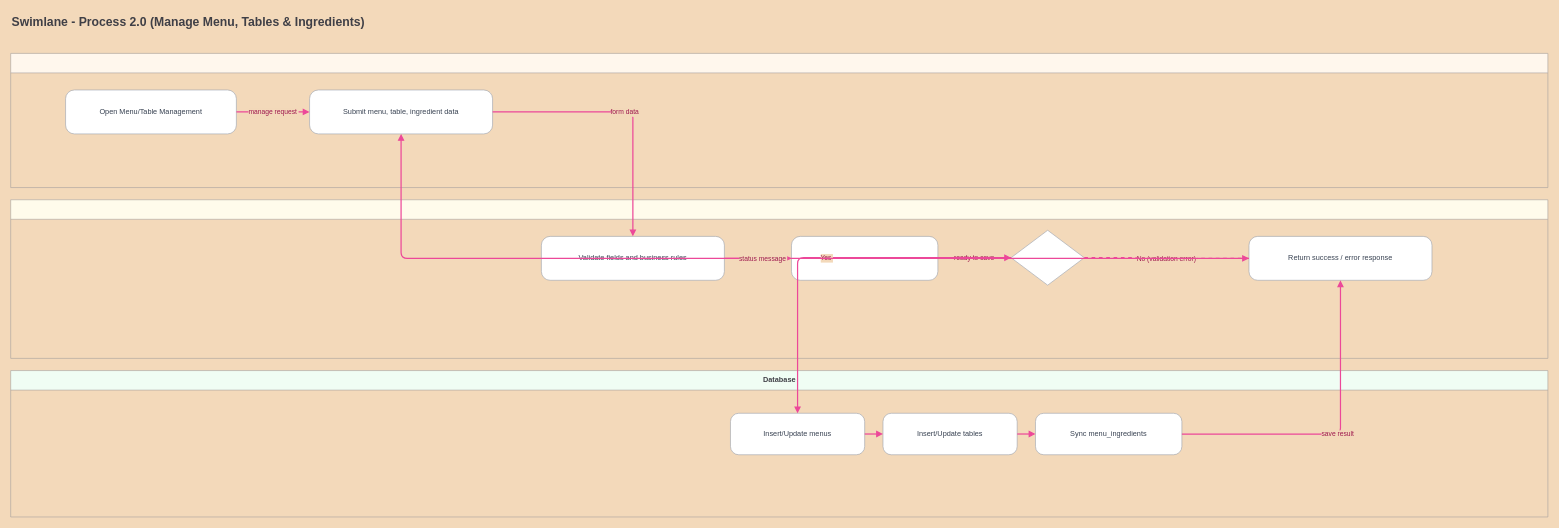
The diagram is 1559 pixels wide and 528 high, and some of its shapes have lost their labels. Each missing label, with the box of its shape:
Manager / Admin: (10, 53, 1548, 188)
Prepare write payload: (791, 236, 938, 280)
RMS System: (10, 199, 1548, 358)
Valid?: (1010, 230, 1084, 285)
